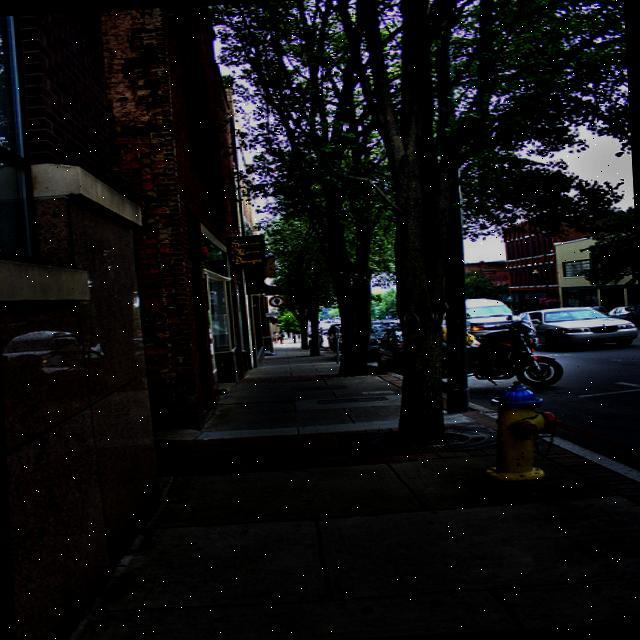fire_hydrant: (478, 378, 563, 484)
